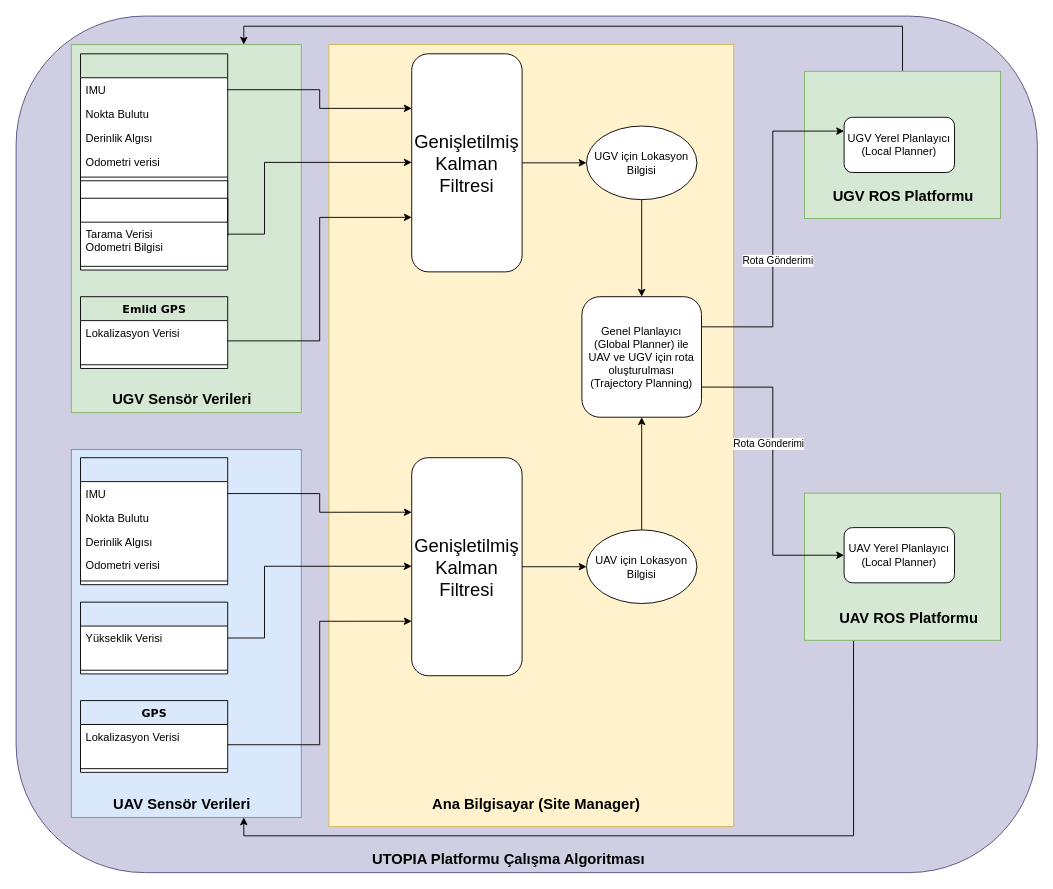
Some shapes in this 1053 by 889 pixel diagram are drawn without their labels. The box of each missing label's shape, as (x1, y1, x2, y2) in pixels:
Garmin Lidar Lite: (80, 601, 228, 674)
RP Lidar S1: (80, 197, 228, 270)
ZED2 Kamera: (80, 53, 228, 236)
ZED2 Mini Kamera: (80, 457, 228, 585)
